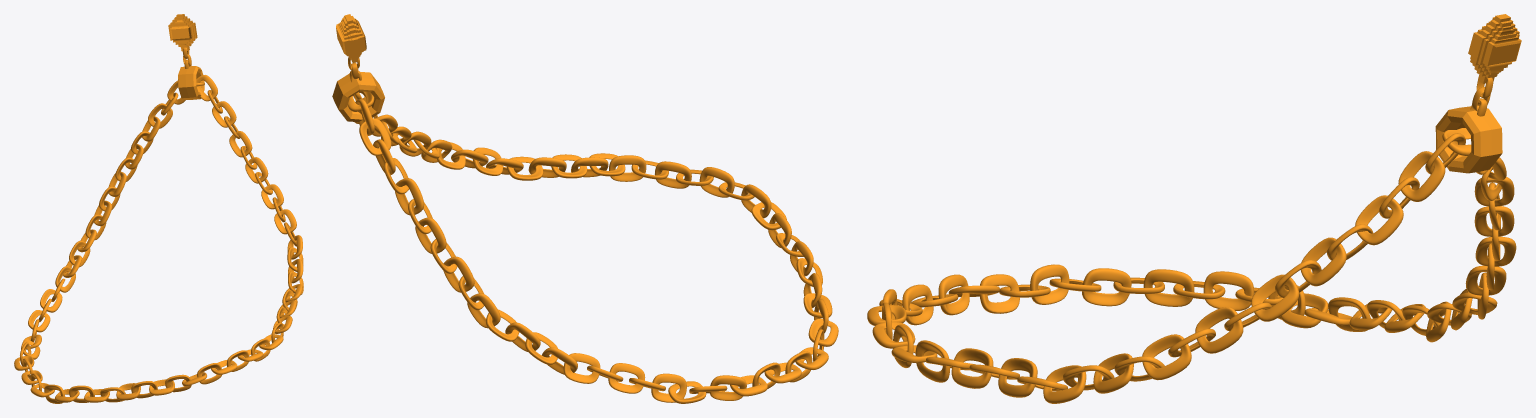
File: necklace.obj
The picture shows the model from 3 angles, left to right: view 1: azimuth 30°, elevation 25°; view 2: azimuth 150°, elevation 25°; view 3: azimuth 270°, elevation 25°; orthographic projection. The views are drawn at different scales.
Parts seen in each view (by area): view 1: dynamic; view 2: dynamic; view 3: dynamic.
Boxes of the visible parts, x1,y1,x2,y2 form: dynamic: (14, 14, 303, 403); dynamic: (332, 14, 838, 403); dynamic: (867, 14, 1521, 403).
Bounding box in the file's own units: 3493 × 3182 × 3703.
